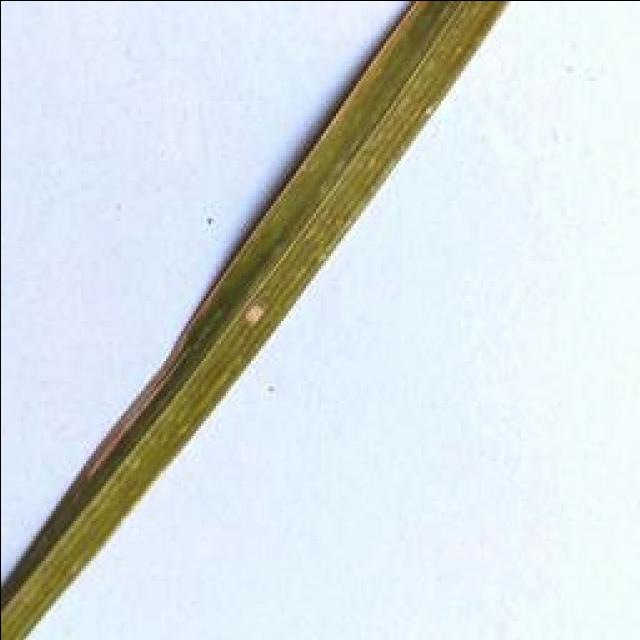Unhealthy: (77, 296, 210, 480), (243, 301, 269, 326)
